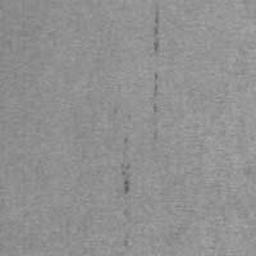Inclusion: (119, 137, 131, 195), (152, 8, 160, 52), (152, 73, 160, 97), (152, 128, 157, 142), (152, 102, 157, 114)
